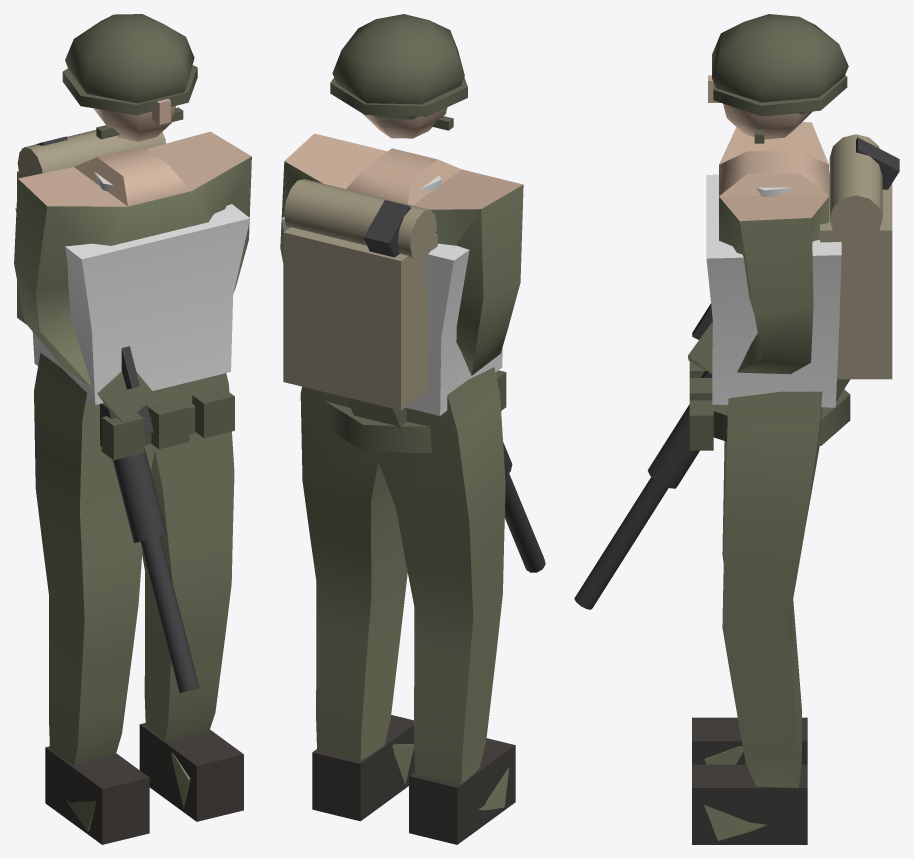
The model's file is machine_gunner_lod1.glb.
3 renders of one model, left to right at view 1: azimuth 30°, elevation 25°; view 2: azimuth 150°, elevation 25°; view 3: azimuth 270°, elevation 25°, orthographic. The views are drawn at different scales.
Parts seen in each view (by area): view 1: body; view 2: body; view 3: body.
Boxes of the visible parts, box(x1,y1,x2,y2) form: body: box(14, 14, 251, 844); body: box(280, 14, 545, 844); body: box(574, 14, 899, 844).
Size of the model in its own units: 0.518 by 1.8 by 0.6744.
